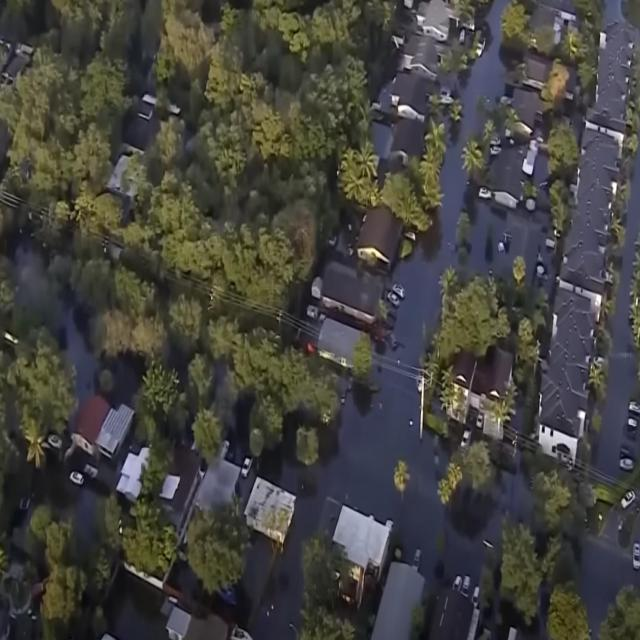flood: (237, 367, 449, 639), (389, 472, 532, 595), (389, 147, 462, 366), (596, 148, 640, 476), (460, 0, 509, 151), (60, 449, 117, 576), (85, 553, 168, 640), (580, 537, 640, 640), (470, 204, 545, 284), (62, 304, 97, 402), (109, 378, 129, 404), (605, 0, 625, 24)
house: (566, 124, 623, 311), (541, 286, 598, 462), (326, 498, 392, 612), (461, 337, 518, 443), (587, 23, 639, 139), (72, 395, 134, 486), (369, 548, 426, 640), (319, 256, 385, 326), (244, 476, 296, 551), (353, 205, 405, 265), (390, 71, 431, 127), (412, 0, 463, 42), (489, 152, 521, 210)
